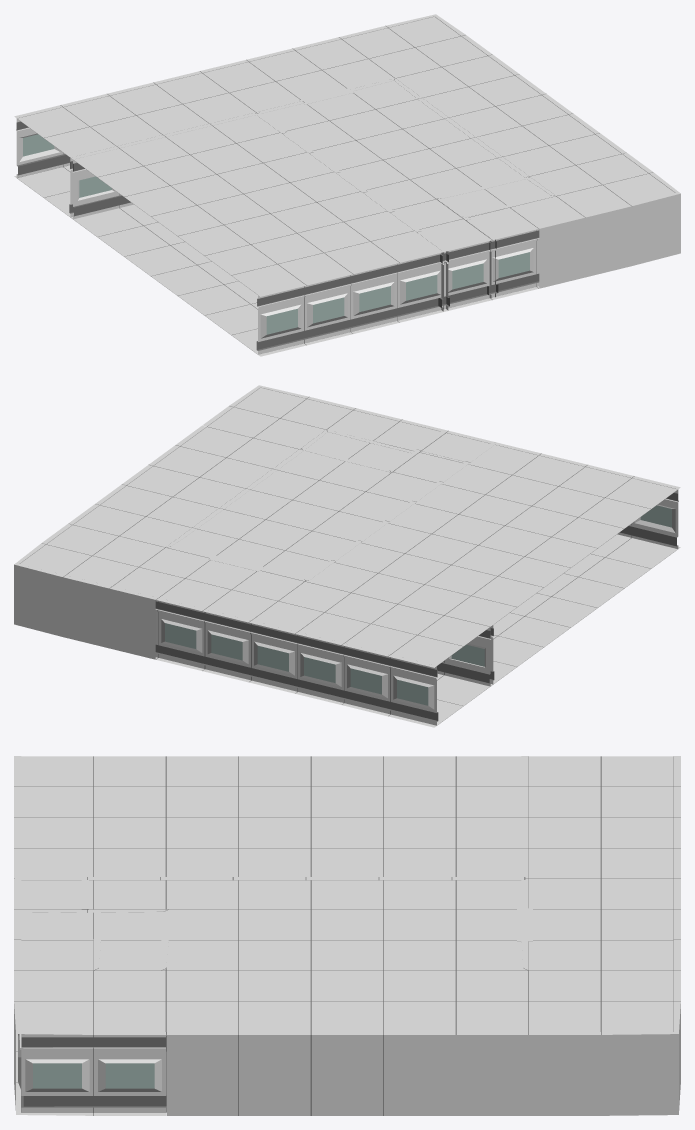
3 views of the same model, one above another, from view 1: azimuth 30°, elevation 25°; view 2: azimuth 150°, elevation 25°; view 3: azimuth 270°, elevation 25° (orthographic). The views are drawn at different scales.
Visible parts, largest first — view 1: ROOF, DUVAR, FLOOR, otaq arakesme, DUVAR.004; view 2: ROOF, DUVAR, FLOOR, DUVAR.004, otaq arakesme; view 3: ROOF, DUVAR, DUVAR.004, otaq arakesme.
Boxes of the visible parts, x1,y1,x2,y2 form: ROOF: (17, 16, 674, 294); DUVAR: (14, 14, 680, 356); FLOOR: (17, 165, 258, 354); otaq arakesme: (255, 112, 449, 311); DUVAR.004: (351, 78, 555, 207); ROOF: (20, 387, 677, 665); DUVAR: (14, 385, 680, 727); FLOOR: (436, 534, 677, 725); DUVAR.004: (166, 429, 371, 558); otaq arakesme: (304, 442, 496, 580); ROOF: (21, 756, 673, 1031); DUVAR: (14, 756, 680, 1115); DUVAR.004: (93, 940, 528, 1051); otaq arakesme: (15, 877, 525, 880).
Size of the model in its own units: 25.93 by 3.58 by 26.2.
